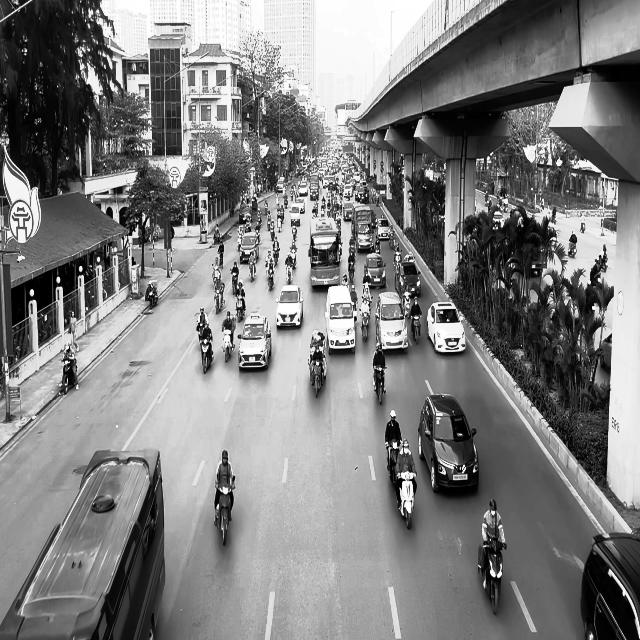bus: (308, 216, 341, 288)
car: (0, 448, 166, 640), (580, 530, 640, 639), (417, 392, 479, 493), (426, 300, 466, 354), (325, 285, 356, 354), (375, 290, 408, 352), (237, 312, 271, 370), (275, 284, 304, 328), (395, 260, 421, 299), (364, 252, 386, 288), (492, 210, 505, 230)
motorbike: (478, 538, 507, 614), (214, 477, 235, 546), (396, 471, 416, 529), (58, 346, 79, 396), (308, 340, 326, 398), (373, 365, 386, 405), (146, 280, 158, 308), (411, 314, 422, 344), (568, 238, 576, 257)
